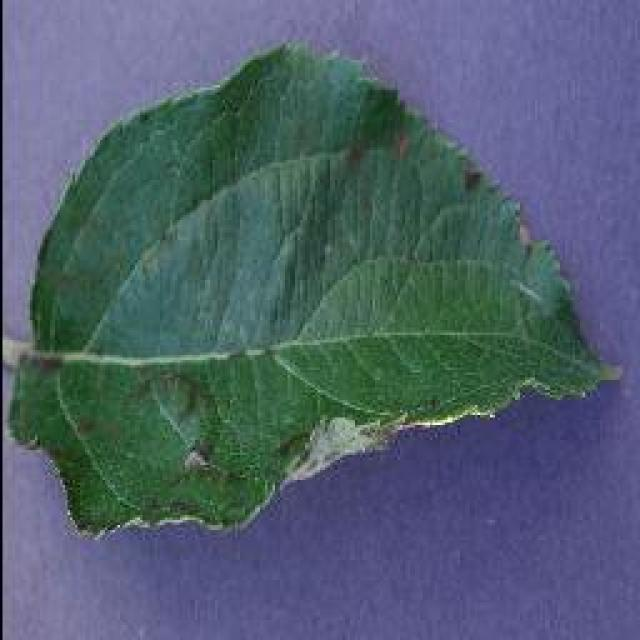apple scab disease: (5, 38, 620, 540)
